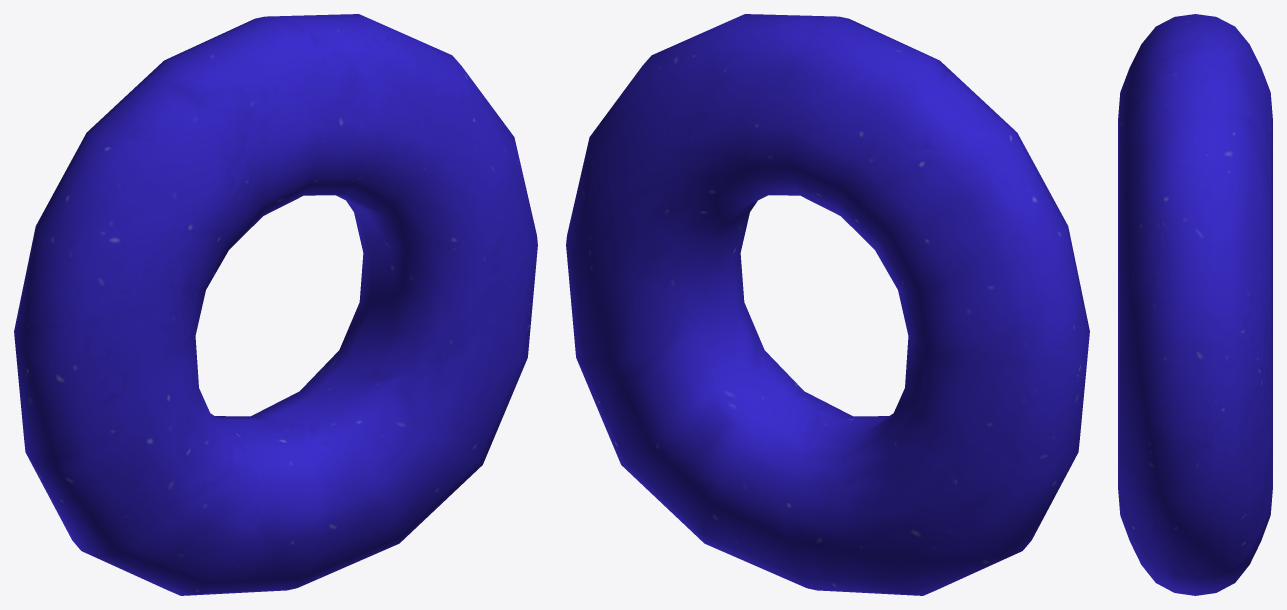
Rendered from ONEW.gltf.
The picture shows the model from 3 angles, left to right: view 1: azimuth 30°, elevation 25°; view 2: azimuth 150°, elevation 25°; view 3: azimuth 270°, elevation 25°; orthographic projection. The views are drawn at different scales.
Visible parts, largest first — view 1: BakeO; view 2: BakeO; view 3: BakeO.
Boxes of the visible parts, x1,y1,x2,y2 form: BakeO: (14,14,537,595); BakeO: (566,14,1089,595); BakeO: (1118,14,1272,595).
Bounding box in the file's own units: 2.23 × 2.37 × 0.631.
Materials: 1 (1 with a texture image).
